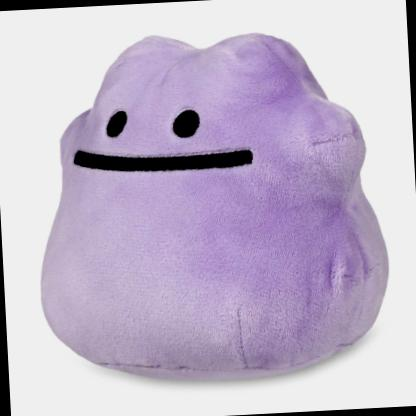Ditto: (0, 0, 415, 385)
